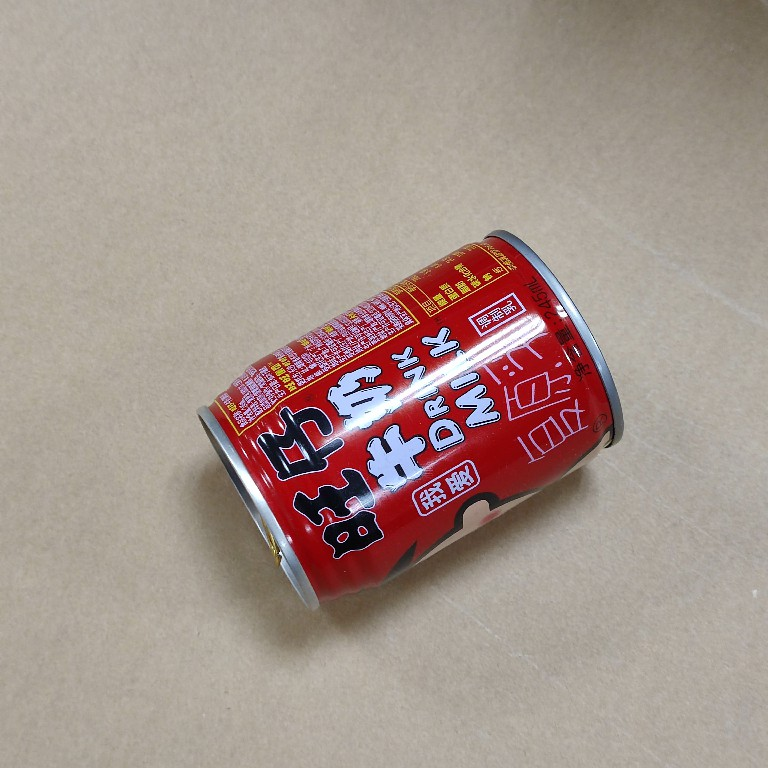can: (193, 228, 629, 613)
